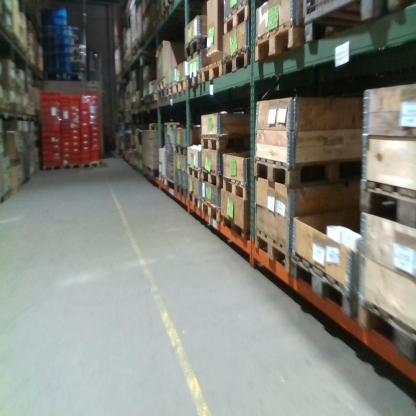pallet: (290, 249, 357, 319), (254, 152, 361, 187), (357, 290, 400, 354), (254, 22, 302, 62), (358, 175, 399, 218), (255, 228, 291, 275), (223, 44, 250, 85), (201, 132, 252, 152), (222, 1, 249, 38), (220, 213, 251, 240), (222, 174, 254, 199), (201, 58, 222, 89), (201, 197, 222, 224), (182, 34, 208, 55), (202, 167, 222, 188), (185, 70, 205, 89), (186, 188, 201, 211), (173, 76, 187, 98), (80, 158, 101, 171), (186, 163, 203, 178), (165, 82, 176, 103), (156, 72, 167, 93), (62, 160, 79, 173), (40, 164, 60, 175), (158, 85, 168, 104), (175, 182, 186, 198), (159, 173, 170, 189), (174, 142, 188, 154)
stillage: (300, 0, 383, 45), (162, 118, 178, 191)
